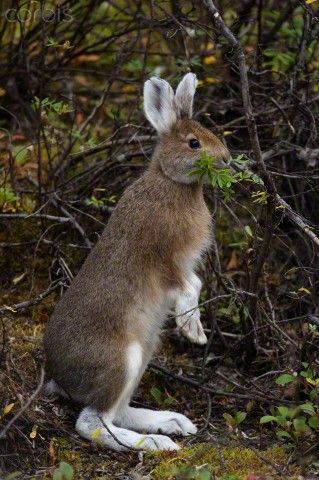bunny: (30, 63, 235, 462)
